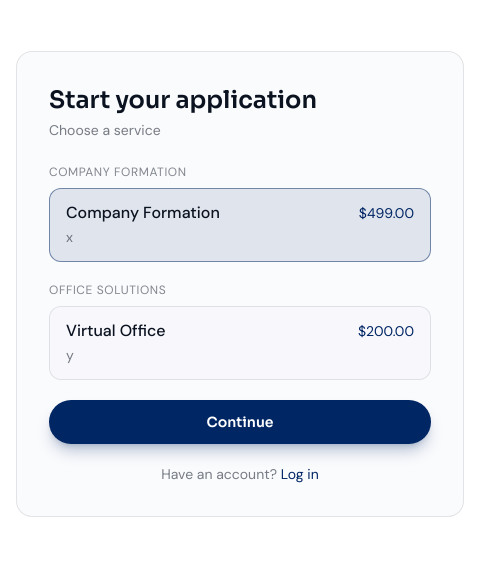
GetStartedPage › lists services then submits signup with phone
Expected: the text "Virtual Office" is shown, [66,319,166,343]
Step 1. Click the button "Continue" → (240, 422), box [49,400,431,444]
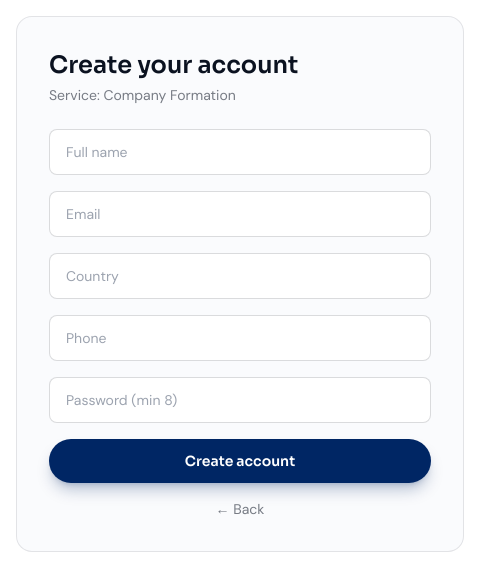
Step 2. Type "Jo" into the field with placeholder "Full name" → (240, 152), box [49,129,431,175]
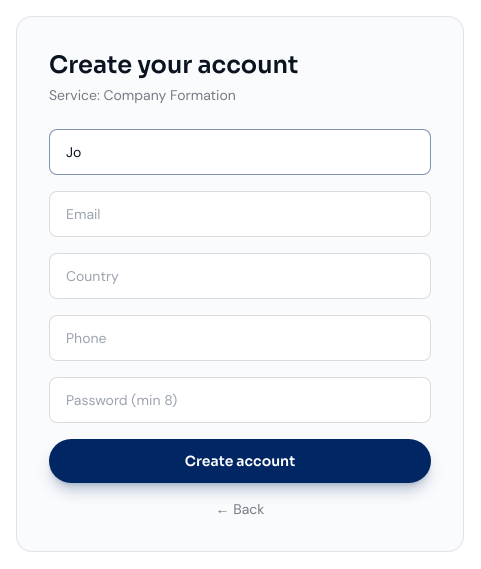
Step 3. Type "jo@x.com" into the field with placeholder "Email" → (240, 214), box [49,191,431,237]
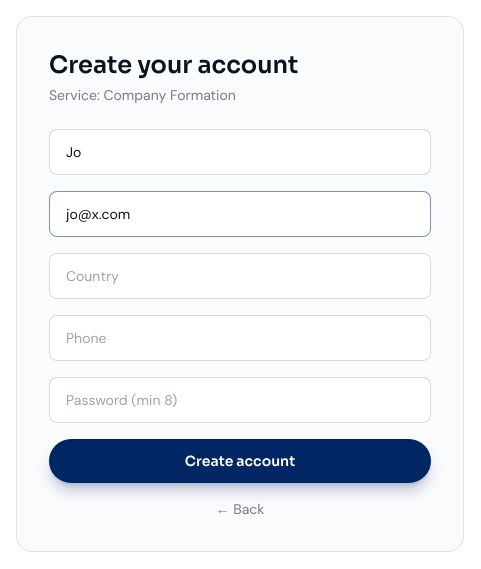
Step 4. Type "India" into the field with placeholder "Country" → (240, 276), box [49,253,431,299]
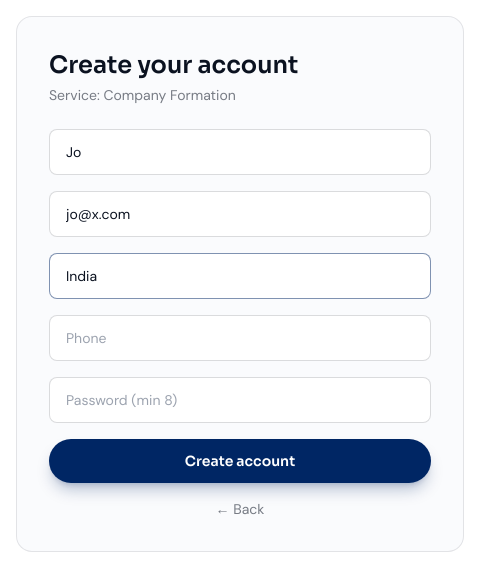
Step 5. Type "secret123" into the password field with placeholder "Password (min 8)" → (240, 400), box [49,377,431,423]
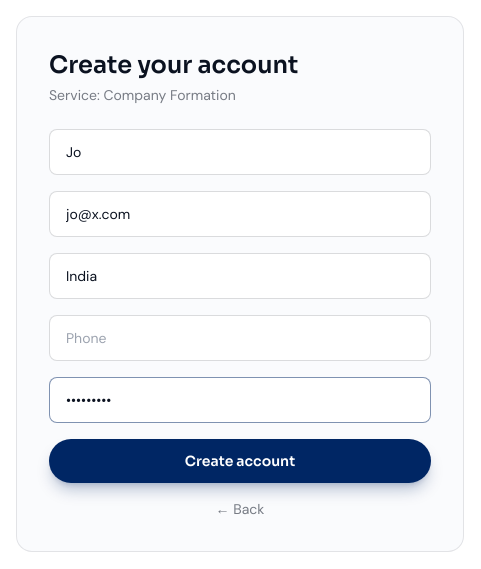
Step 6. Click the button "Create account" → (240, 461), box [49,439,431,483]
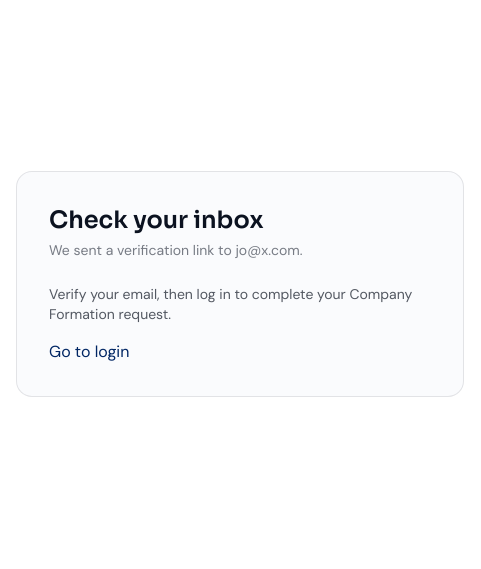
Expected: the heading "Check your inbox" is shown, [49,205,264,235]
